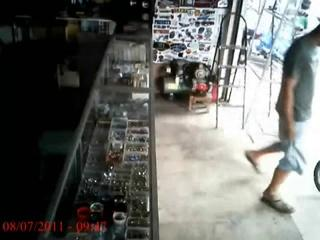Normal: (245, 20, 320, 214)
